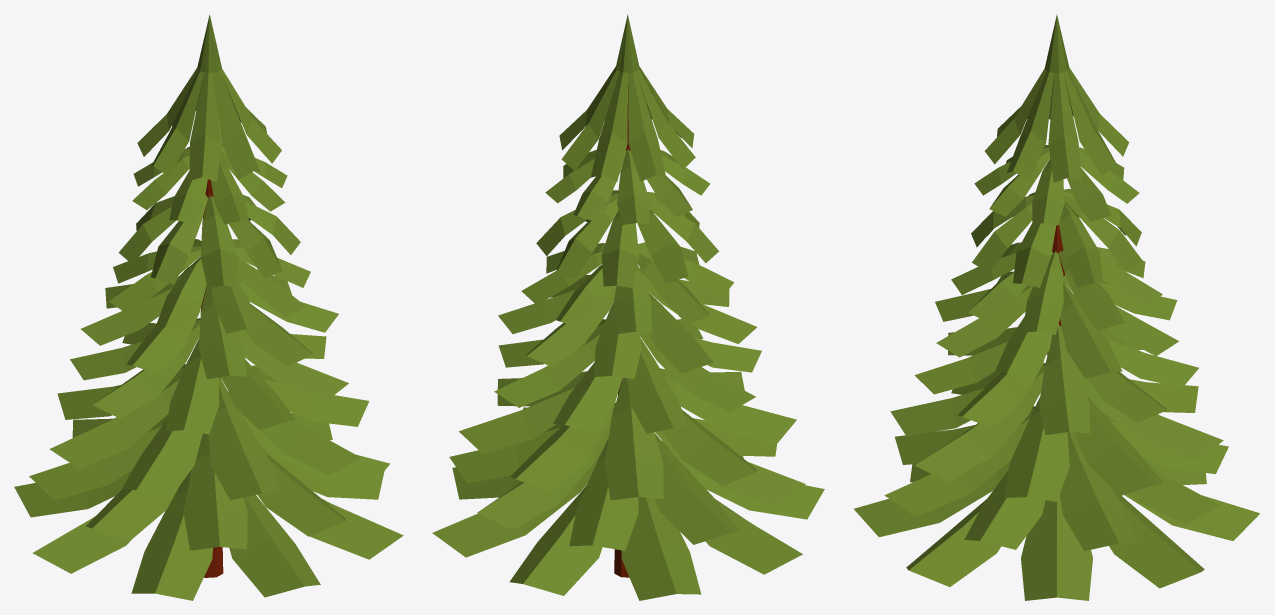
The model's file is Fir_tree_Folhas_Verde_Claro.fbx.
The picture shows the model from 3 angles, left to right: view 1: azimuth 30°, elevation 25°; view 2: azimuth 150°, elevation 25°; view 3: azimuth 270°, elevation 25°; orthographic projection.
Parts seen in each view (by area): view 1: Fir_tree_Folhas_Verde_Claro; view 2: Fir_tree_Folhas_Verde_Claro; view 3: Fir_tree_Folhas_Verde_Claro.
Part boxes in pixels (x1,y1,x2,y2): Fir_tree_Folhas_Verde_Claro: (14,15,403,600); Fir_tree_Folhas_Verde_Claro: (432,14,824,600); Fir_tree_Folhas_Verde_Claro: (854,15,1259,600).
Bounding box in the file's own units: 377 × 571 × 377.
